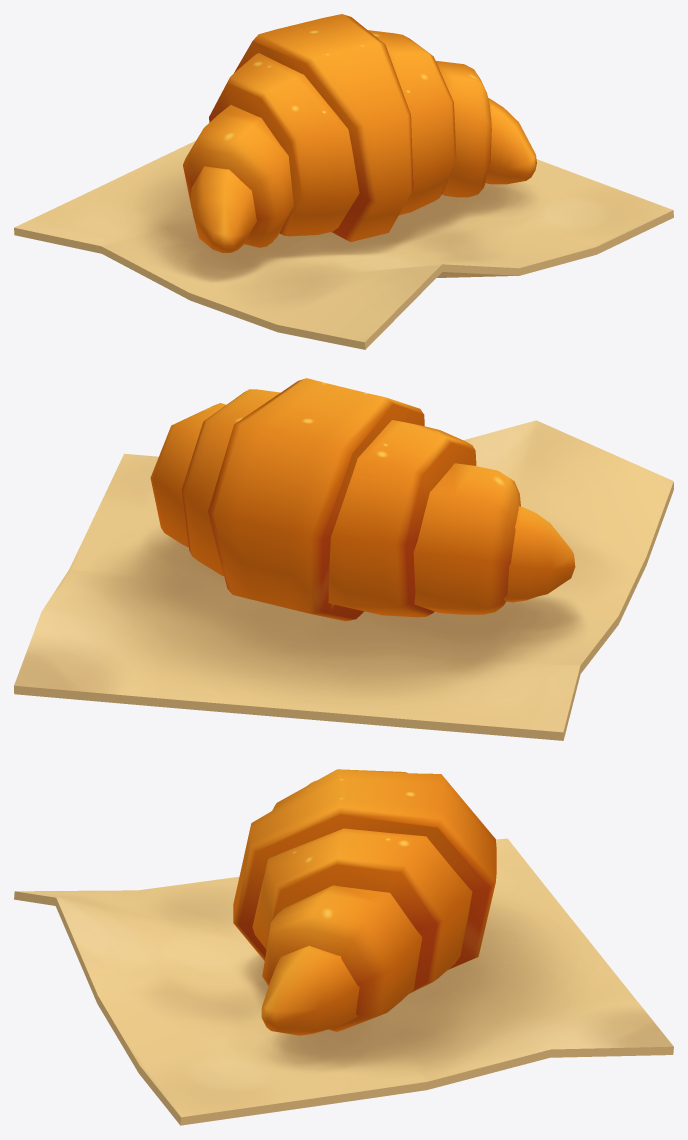
The model's file is low_poly_croissant_on_paper.glb.
3 renders of one model, top to bottom at view 1: azimuth 30°, elevation 25°; view 2: azimuth 150°, elevation 25°; view 3: azimuth 270°, elevation 25°, orthographic. The views are drawn at different scales.
Parts seen in each view (by area): view 1: Cube.002, Plane; view 2: Plane, Cube.002; view 3: Plane, Cube.002.
Part boxes in pixels (<box>): Cube.002: <box>183,14,536,252</box>; Plane: <box>14,140,673,349</box>; Plane: <box>14,420,673,740</box>; Cube.002: <box>150,378,575,621</box>; Plane: <box>14,838,673,1125</box>; Cube.002: <box>233,769,496,1035</box>.
Bounding box in the file's own units: 2.39 × 0.7895 × 2.39.
Materials: 1 (1 with a texture image).
